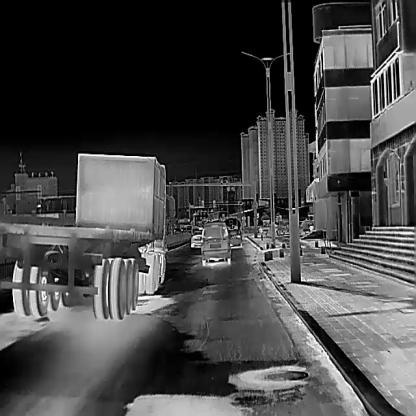car: (0, 153, 175, 319), (201, 222, 231, 264), (228, 229, 241, 246), (190, 230, 201, 247)
